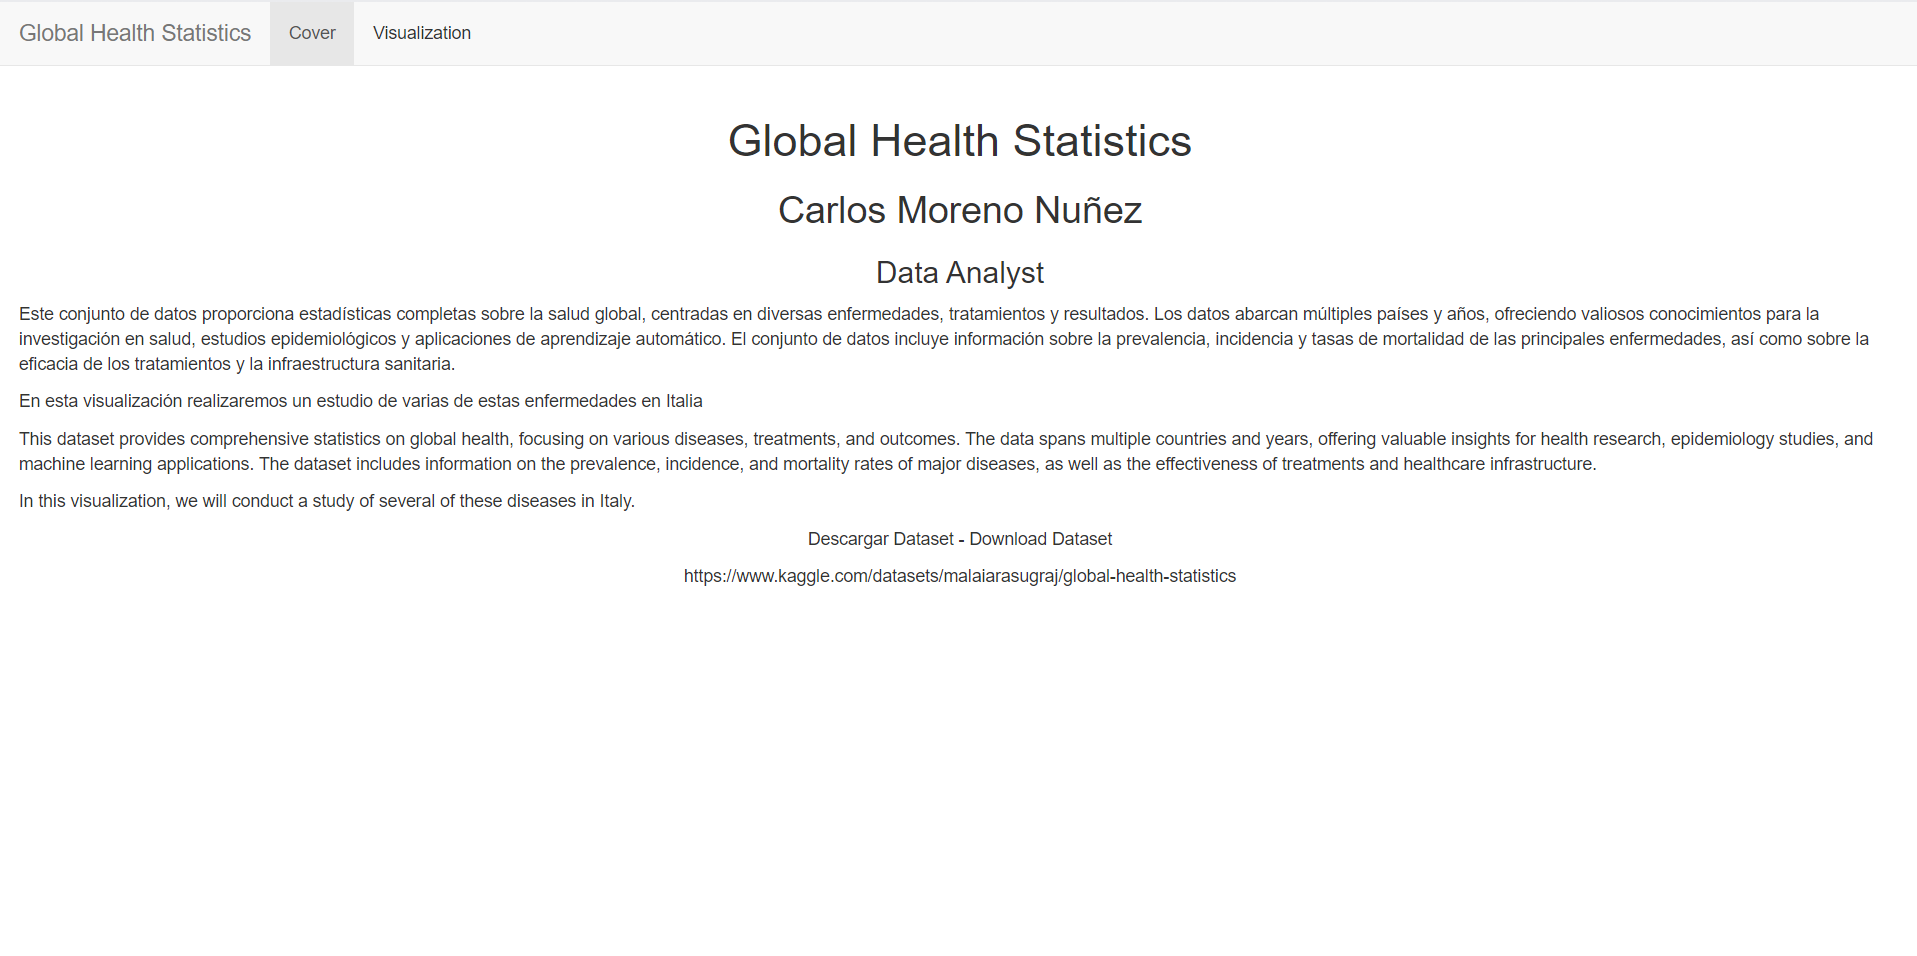

Layout of this report page (visuals, bound fields, positions):
{"tool":"powerbi","page":{"name":"Cover","canvas":[1280,720],"ordinal":0},"visuals":[{"type":"pageNavigator","box":[439.1,612.9,400.5,49.5],"z":0},{"type":"actionButton","box":[839.7,612.9,49.5,39.8],"z":1000},{"type":"image","box":[540,0,199.5,199.5],"z":2000},{"type":"textbox","box":[184.4,183.5,909.8,376.8],"z":3000}]}

Visuals, with their boxes on the page's 1280x720 design canvas (x1, y1, x2, y2). These are canvas units, not pixel positions in the 1917x956 screenshot, which may show the page scaled, cropped or inside an application window:
pageNavigator: <box>439,613,840,662</box>
actionButton: <box>840,613,889,653</box>
image: <box>540,0,740,200</box>
textbox: <box>184,184,1094,560</box>
